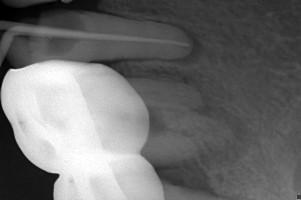Dental Caries: (129, 66, 254, 194)
Furcation Involvement: (169, 24, 204, 65)
